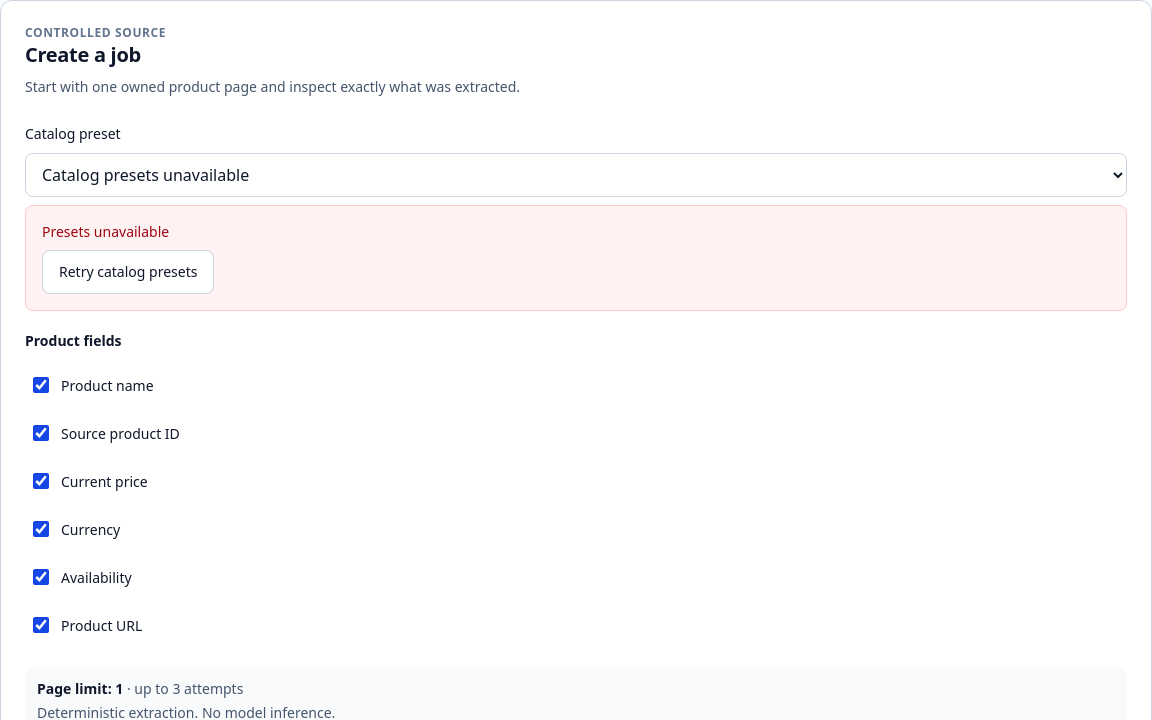
Scenario: controlled job submission › keeps submission disabled until presets load and supports retry after a load failure
The width and height of the screenshot is (1152, 720).
Expected: the message shows "Presets unavailable", left=42, top=222, right=169, bottom=241
Step 1. Click the button "Retry catalog presets" → coordinates (128, 272), box left=42, top=250, right=214, bottom=294
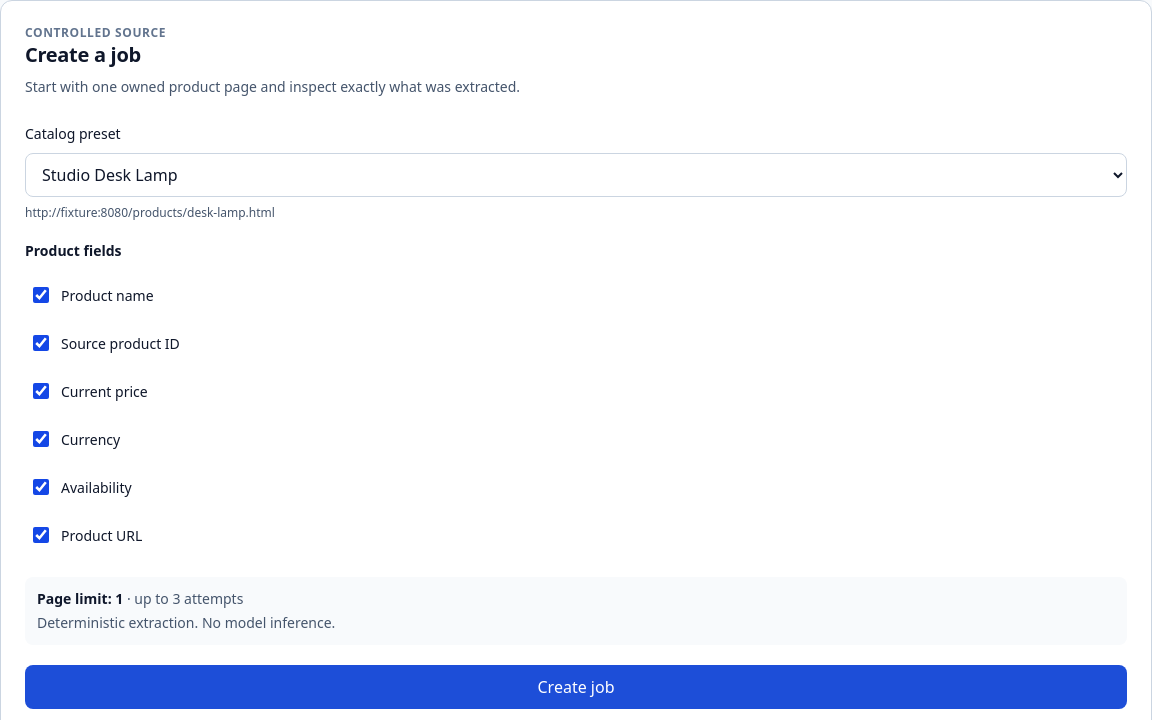
Result: the button "Create job" is enabled at left=25, top=665, right=1127, bottom=709
